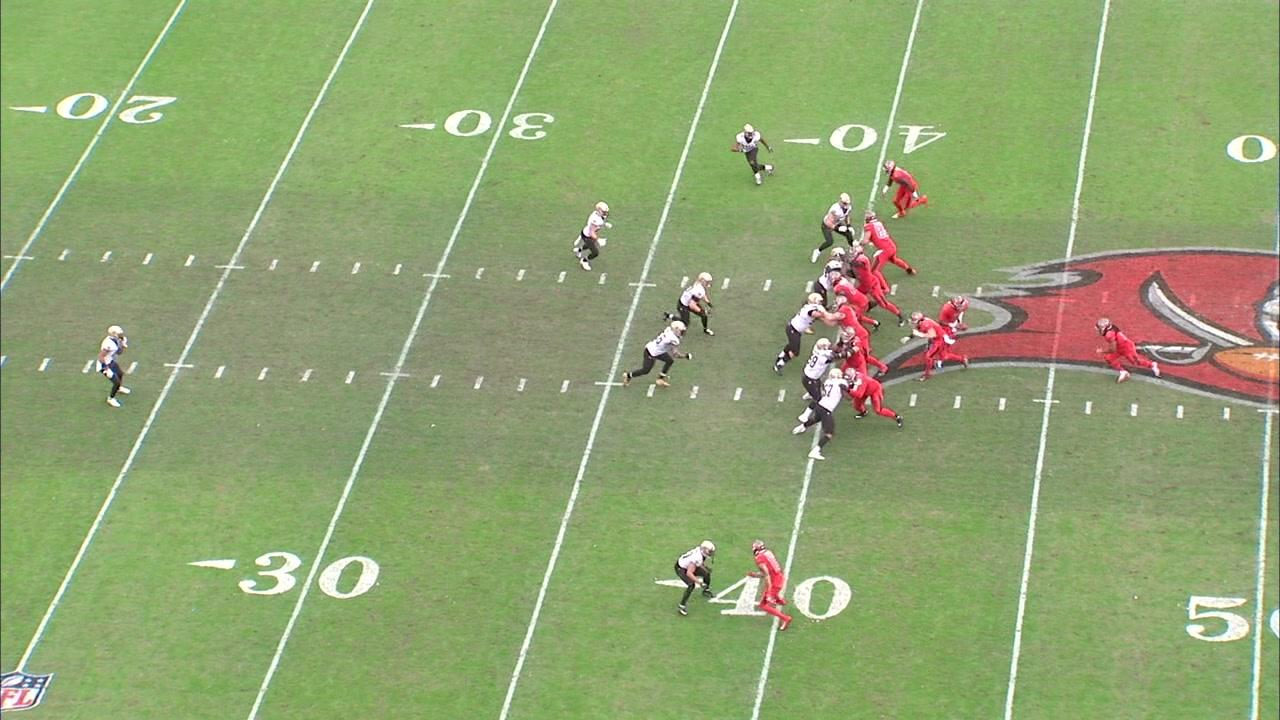player: (794, 364, 848, 461), (848, 242, 910, 326), (1093, 314, 1162, 385), (622, 319, 688, 390), (772, 294, 826, 377), (751, 537, 795, 632), (905, 313, 970, 376), (661, 267, 716, 338), (807, 190, 860, 261), (834, 299, 885, 372), (863, 211, 914, 277), (572, 199, 616, 275), (844, 372, 903, 427), (676, 538, 717, 616), (95, 323, 130, 412), (831, 274, 881, 333), (731, 122, 777, 186), (885, 157, 927, 220), (799, 336, 832, 414), (808, 245, 843, 307), (937, 295, 967, 367), (835, 328, 868, 375)
